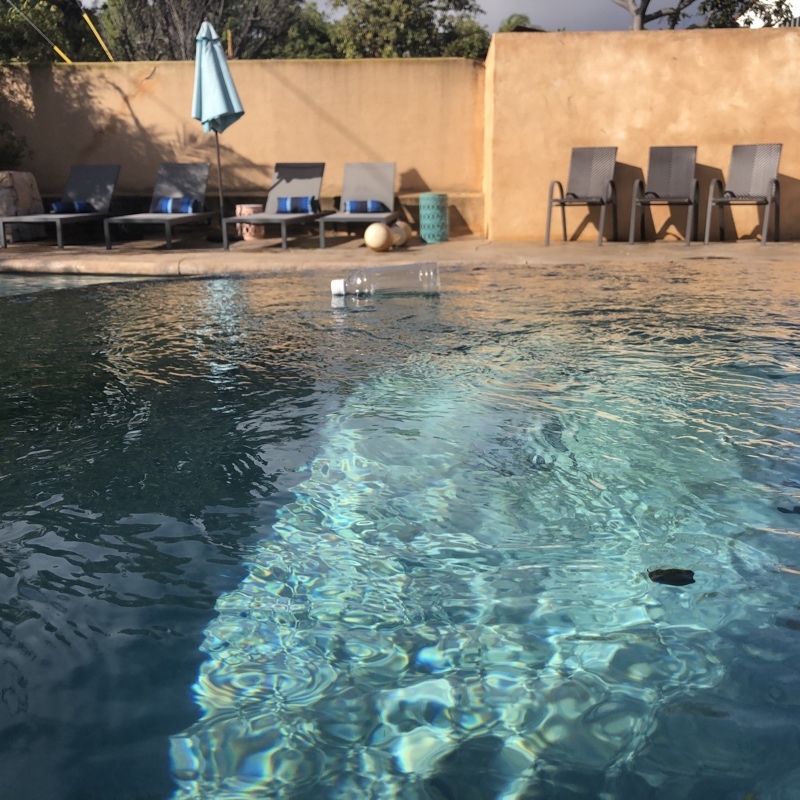Plastic Bottle: (328, 259, 446, 300)
